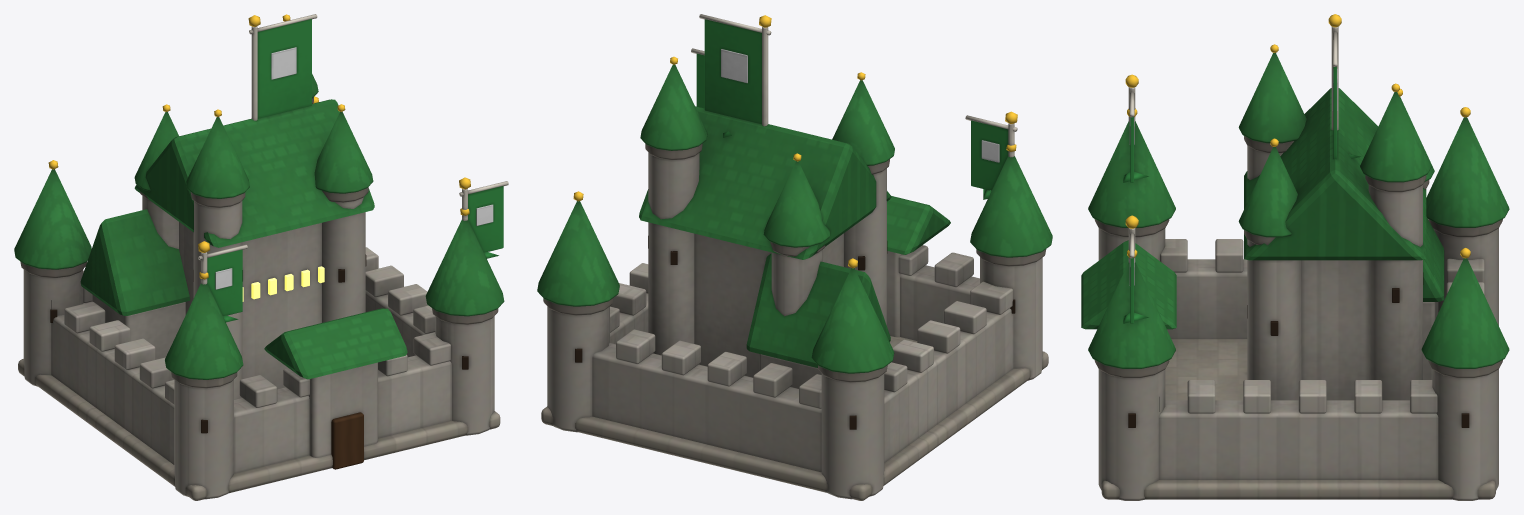
Rendered from castle_green.glb.
3 views of the same model, side by side, from view 1: azimuth 30°, elevation 25°; view 2: azimuth 150°, elevation 25°; view 3: azimuth 270°, elevation 25° (orthographic). The views are drawn at different scales.
Visible parts, largest first — view 1: base; view 2: base; view 3: base.
Part boxes in pixels (x1=…): base: x1=14, y1=14, x2=508, y2=500; base: x1=537, y1=14, x2=1052, y2=500; base: x1=1081, y1=14, x2=1509, y2=500.
Size of the model in its own units: 1.42 by 1.5 by 1.41.
Materials: 3 (1 with a texture image).
